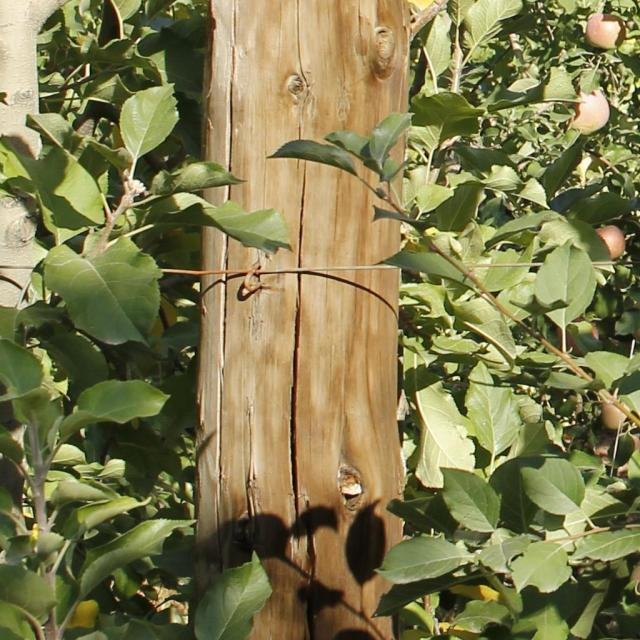100-_ripeness: (566, 89, 610, 134), (586, 13, 624, 49), (556, 325, 598, 355), (595, 224, 624, 258), (629, 560, 640, 592), (632, 301, 640, 339)
